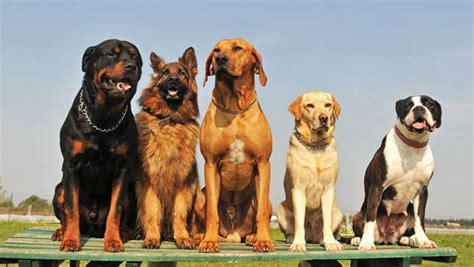dog: (51, 39, 142, 250), (200, 37, 272, 251), (350, 91, 441, 252), (139, 47, 200, 249), (277, 90, 340, 251)
